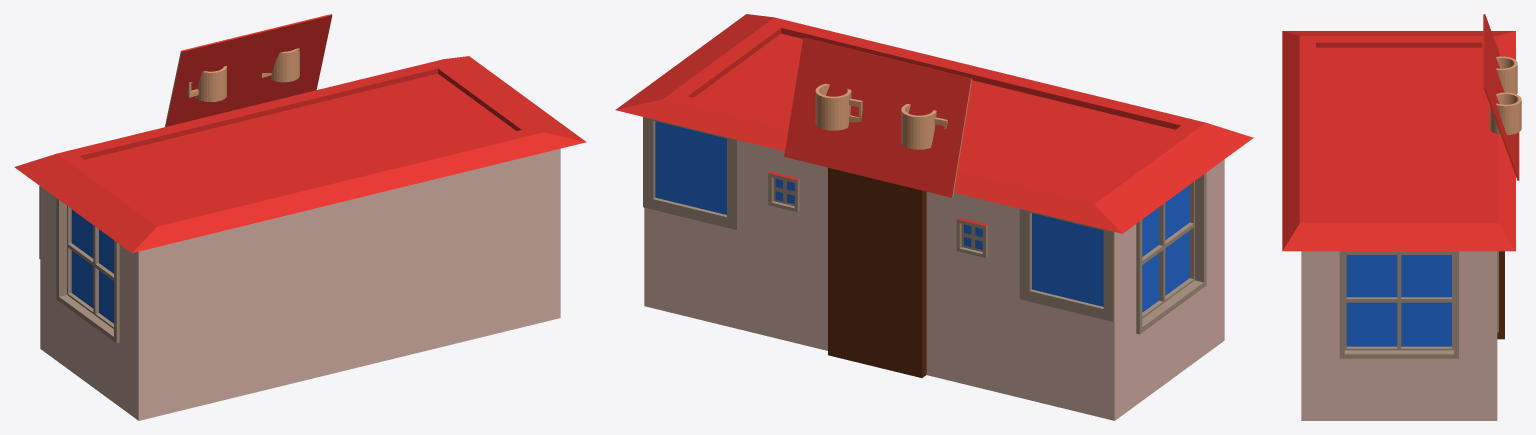
Rendered from Station Light tan.fbx.
The picture shows the model from 3 angles, left to right: view 1: azimuth 30°, elevation 25°; view 2: azimuth 150°, elevation 25°; view 3: azimuth 270°, elevation 25°; orthographic projection. The views are drawn at different scales.
Parts seen in each view (by area): view 1: Cube.004, Cube.005; view 2: Cube.004, Cube.005; view 3: Cube.004, Cube.005.
Part boxes in pixels (x1,y1,x2,y2): Cube.004: (14, 56, 586, 420); Cube.005: (165, 14, 332, 126); Cube.004: (615, 14, 1253, 420); Cube.005: (784, 37, 971, 197); Cube.004: (1282, 31, 1515, 420); Cube.005: (1483, 14, 1521, 180).
Bounding box in the file's own units: 3261 × 1847 × 1496.
